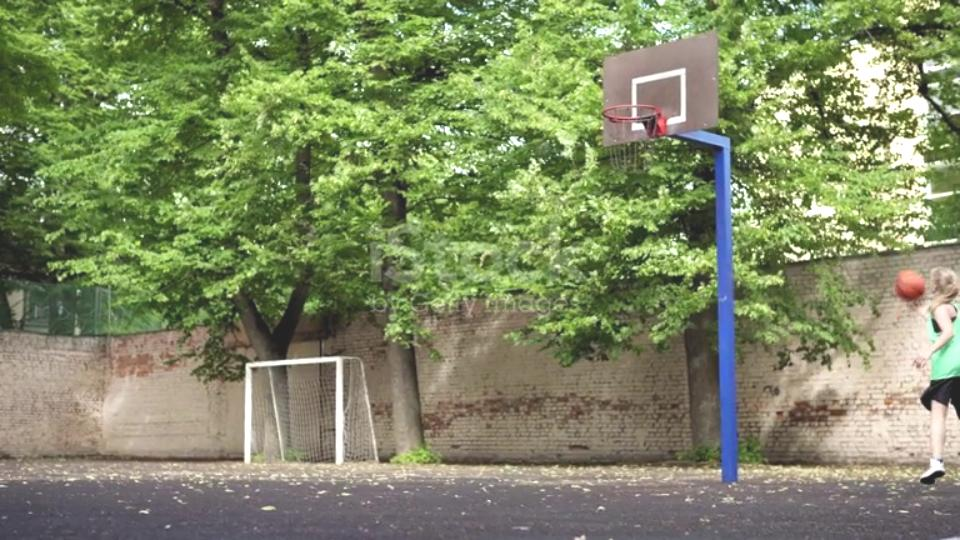hoop: (600, 103, 664, 125)
